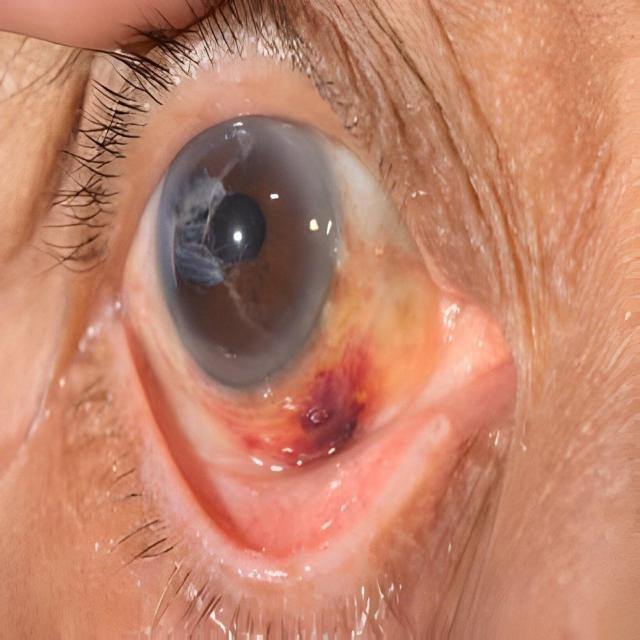Cataract: (125, 94, 338, 378)
